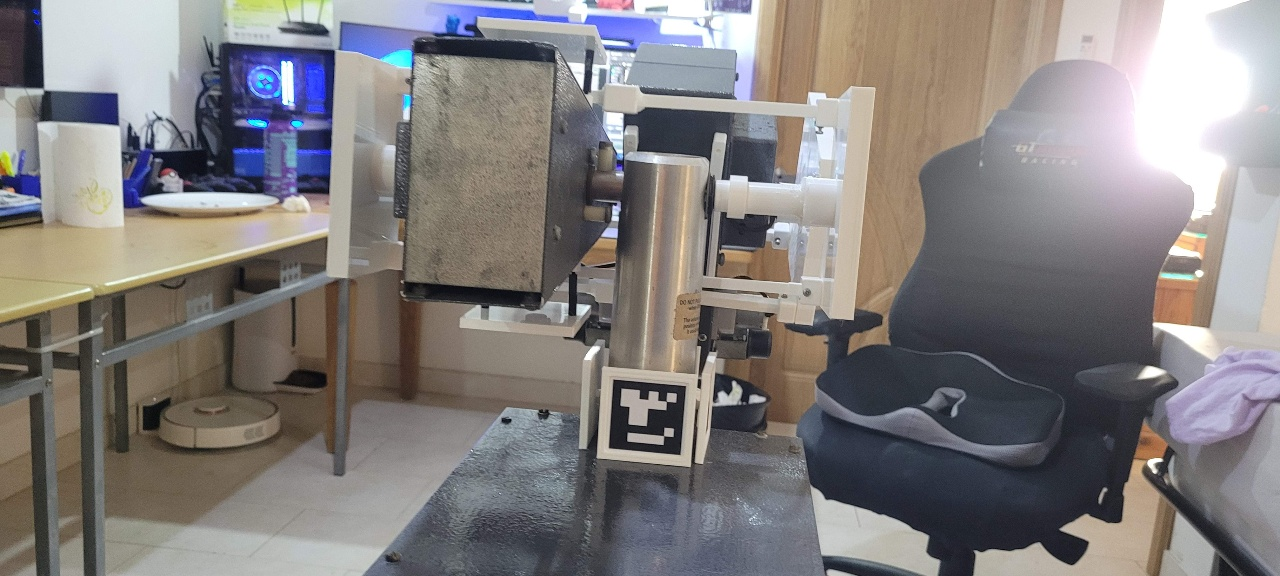Robot: (322, 12, 879, 472)
